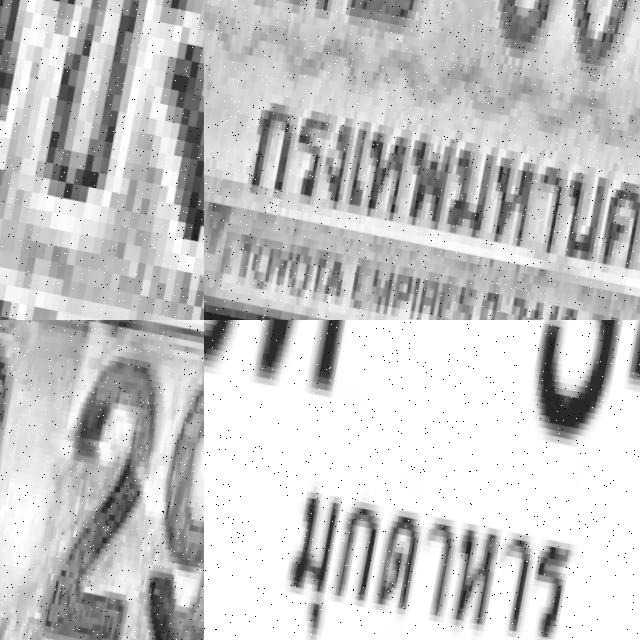license-plate: (204, 0, 640, 320), (204, 320, 640, 640), (0, 0, 204, 320), (0, 320, 204, 640)
